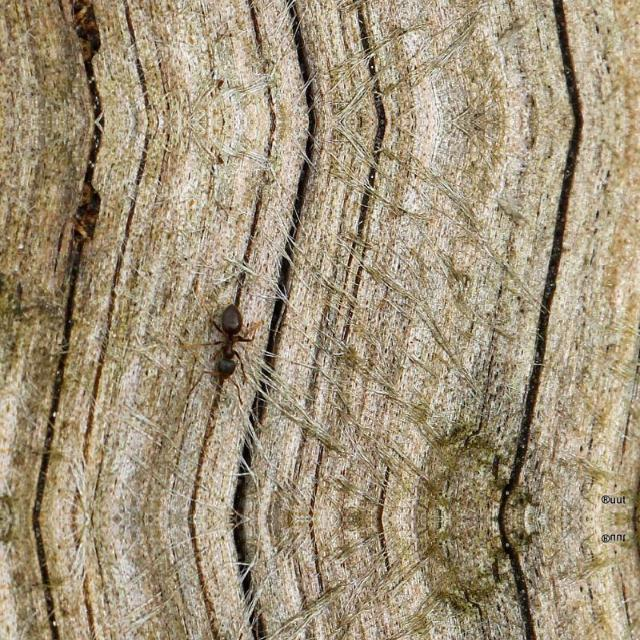Lasius: (179, 294, 255, 391)
